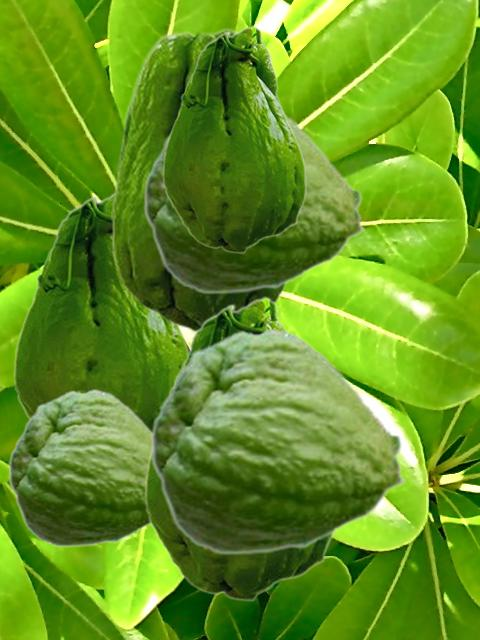sayote: (150, 327, 407, 555), (144, 296, 336, 601), (111, 27, 290, 332), (13, 190, 189, 427), (143, 110, 366, 294), (162, 25, 306, 253), (8, 388, 150, 547)
